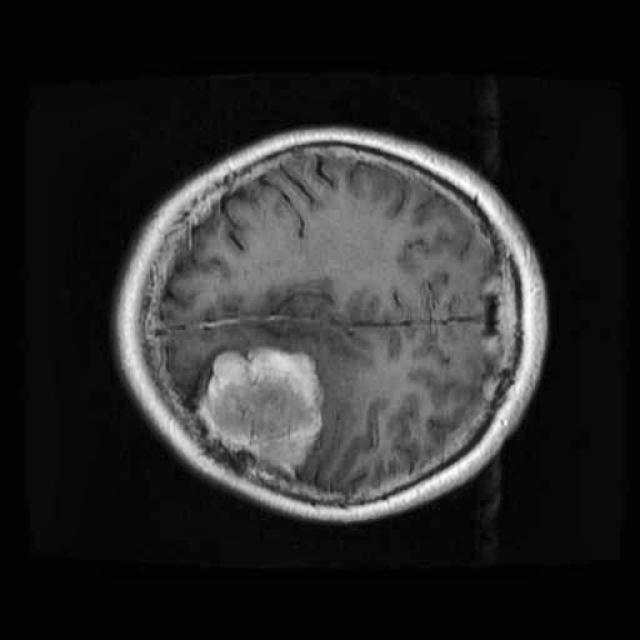Tumor: (185, 330, 331, 489)
